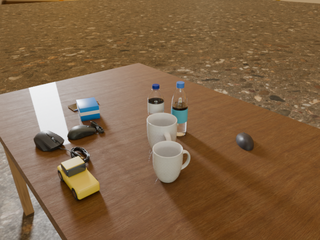bottle: (171, 81, 188, 136), (148, 84, 164, 116)
box: (76, 98, 100, 121)
cup: (153, 141, 190, 183), (147, 112, 178, 150)
mouse: (67, 121, 104, 139), (34, 131, 64, 151), (236, 132, 254, 151)
phone: (68, 102, 98, 111)
toy_car: (58, 156, 100, 200)
